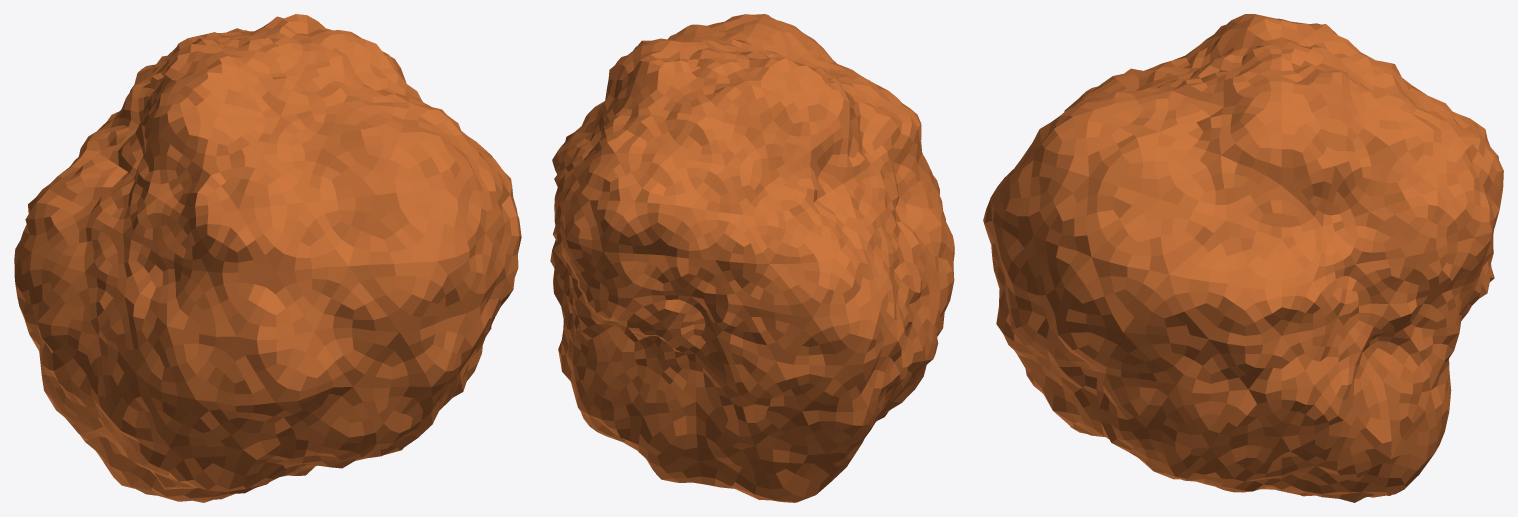
Rendered from asteroid3.obj.
The picture shows the model from 3 angles, left to right: view 1: azimuth 30°, elevation 25°; view 2: azimuth 150°, elevation 25°; view 3: azimuth 270°, elevation 25°; orthographic projection. The views are drawn at different scales.
Parts seen in each view (by area): view 1: Icosphere; view 2: Icosphere; view 3: Icosphere.
Boxes of the visible parts, x1,y1,x2,y2 form: Icosphere: (14, 14, 521, 502); Icosphere: (550, 14, 954, 502); Icosphere: (983, 14, 1503, 502).
Size of the model in its own units: 12.7 by 13.41 by 13.6.
